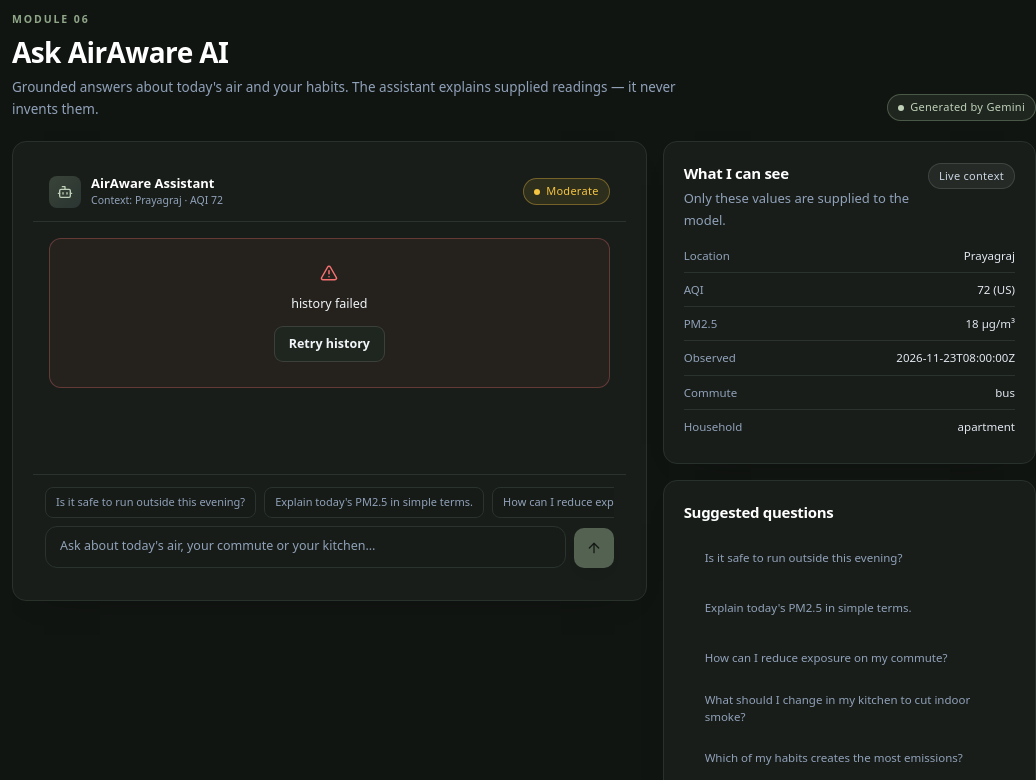
Test: Assistant interactions › retries a failed chat history load
The width and height of the screenshot is (1036, 780).
Expected: the text "history failed" is shown, [291,294,368,314]
Click the button "Retry history" at (329, 344), box [274,326,385,362]
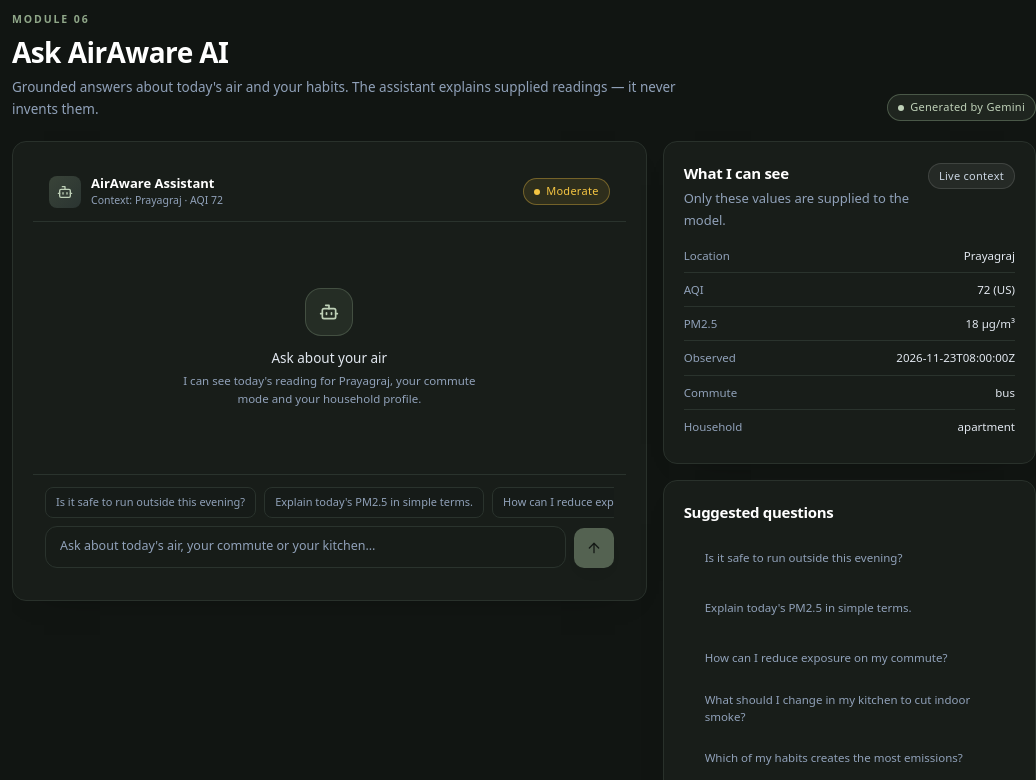
Expected: the text "Ask about your air" is shown, [272,348,387,366]
